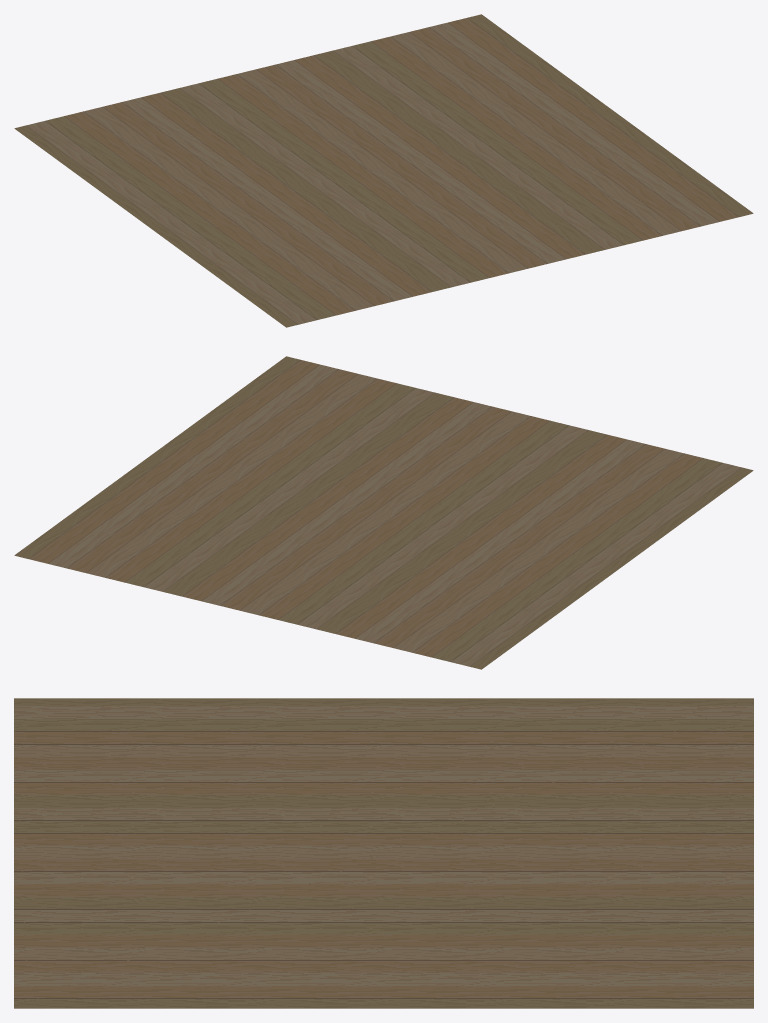
Rendered from kd_stage_135b75_4_22_bounded_portal_piece_5.glb.
3 views of the same model, one above another, from view 1: azimuth 30°, elevation 25°; view 2: azimuth 150°, elevation 25°; view 3: azimuth 270°, elevation 25° (orthographic). The views are drawn at different scales.
Parts seen in each view (by area): view 1: kd_stage_135b75_4_22_bounded_portal_piece_5; view 2: kd_stage_135b75_4_22_bounded_portal_piece_5; view 3: kd_stage_135b75_4_22_bounded_portal_piece_5.
Boxes of the visible parts, box(x1,y1,x2,y2) form: kd_stage_135b75_4_22_bounded_portal_piece_5: box(14, 14, 753, 327); kd_stage_135b75_4_22_bounded_portal_piece_5: box(14, 356, 753, 669); kd_stage_135b75_4_22_bounded_portal_piece_5: box(14, 698, 753, 1008).
Size of the model in its own units: 3.54 by 1.79e-07 by 3.57.
Materials: 1 (1 with a texture image).
